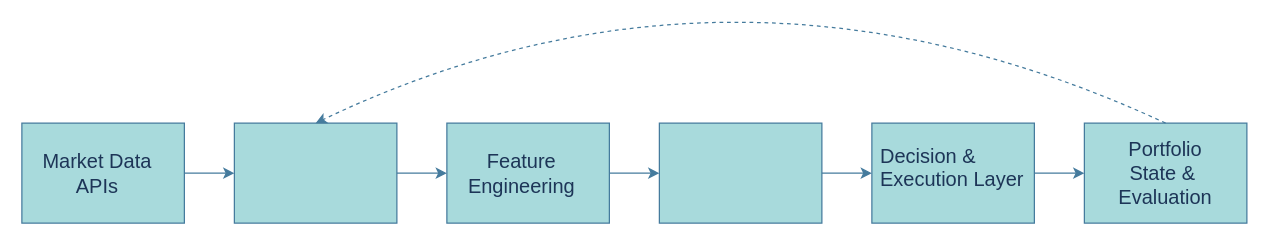
This 1269x245 diagram has some shape labels left out. The shapes that lost their labels are listed below. From the top down, each one's centre as x and y in pixels, then its label:
the point at 315,172: Data Fetching & Cleaning
the point at 740,172: ML Model & Regime Detection
